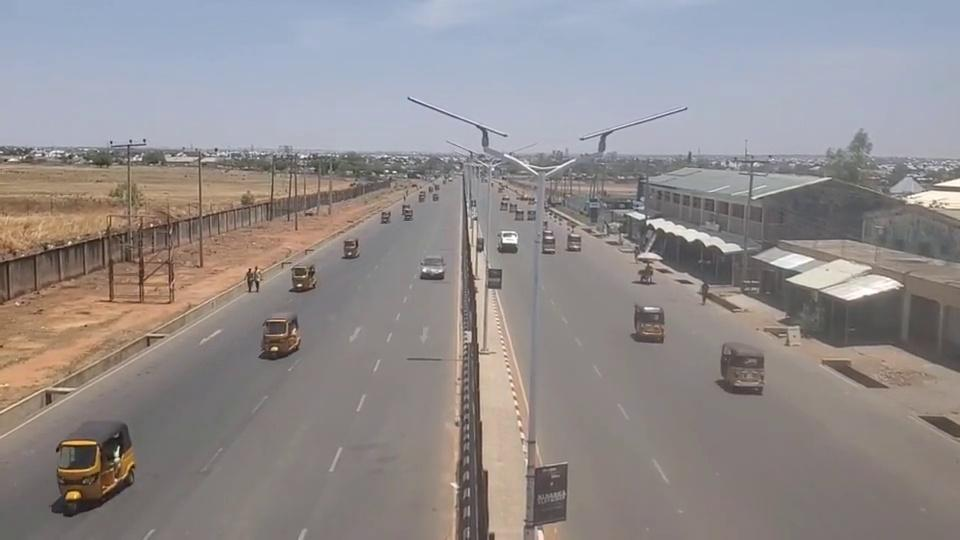keke: (54, 419, 135, 505), (719, 341, 764, 391), (260, 315, 300, 358), (633, 303, 665, 342)
